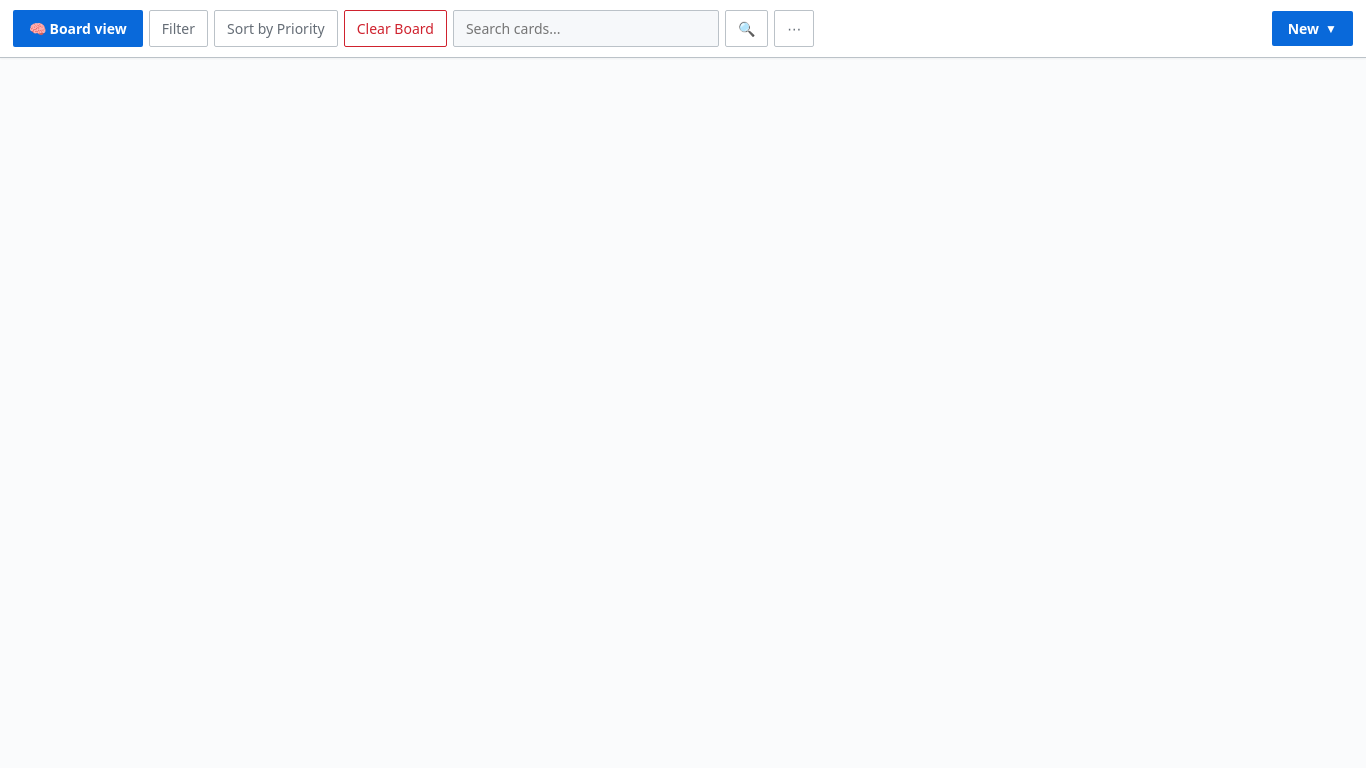
Test: KanbanToolbar › New Button Dropdown › should open modal when New Card is clicked
Click the button "New ▼" at x=1312, y=28, box [1272,11,1353,46]
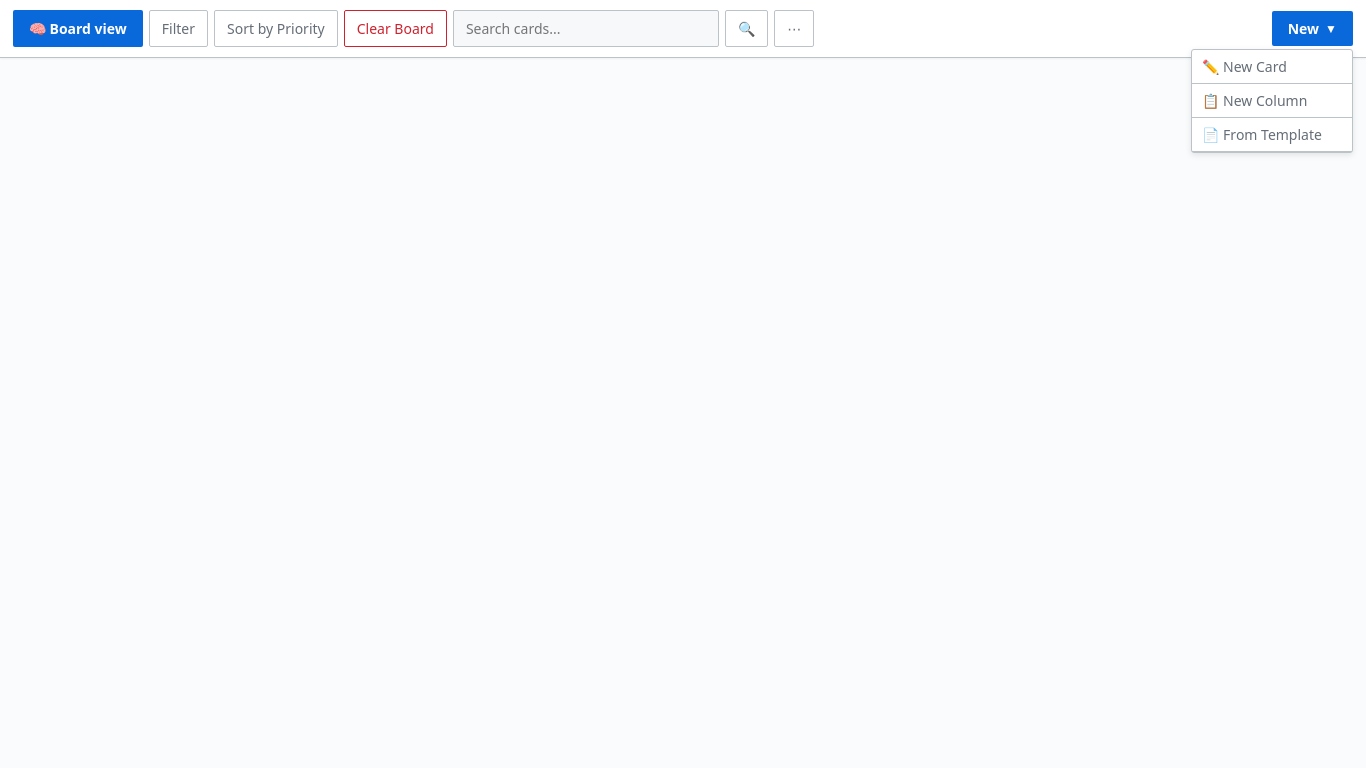
Click the text "✏️ New Card" at x=1272, y=67, box [1192,50,1352,84]
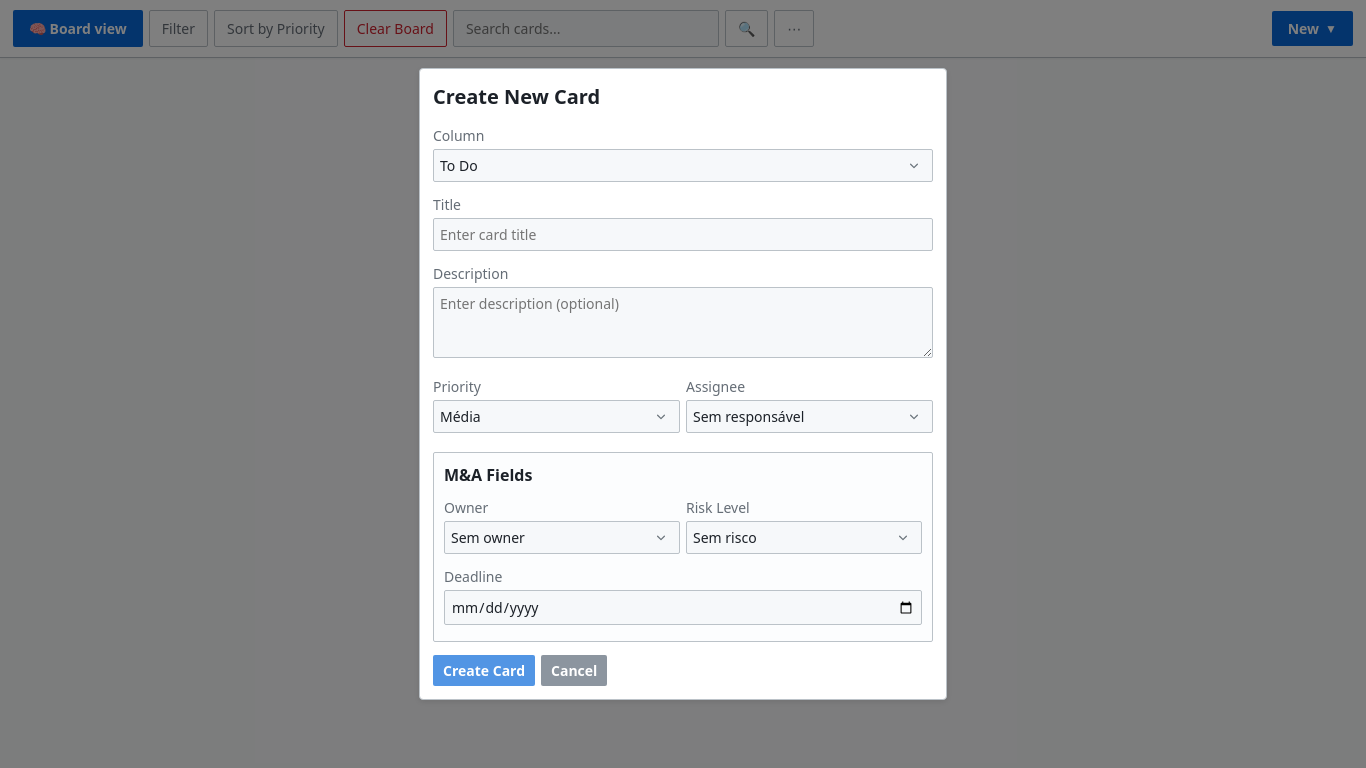
Expected: the heading "Create New Card" is shown, [433,83,600,110]
